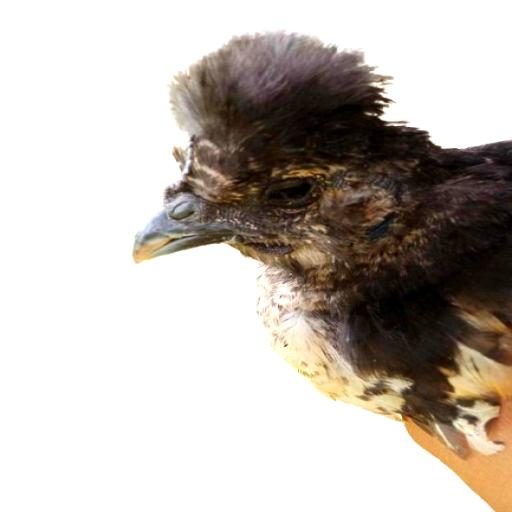disease: (170, 136, 346, 290)
